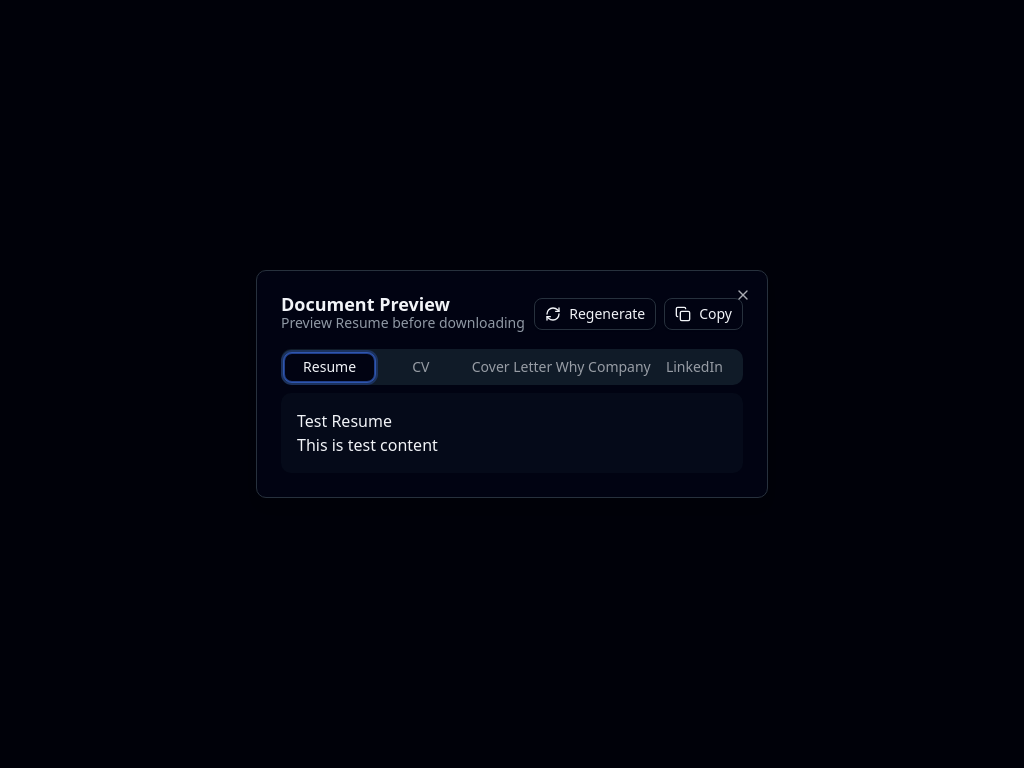
Test: DocumentPreview Component › switches to different tab on click
Expected: the text "This is test content" is shown, x1=297 y1=434 x2=438 y2=456
Click the tab "CV" at (421, 367), box x1=375 y1=352 x2=466 y2=382
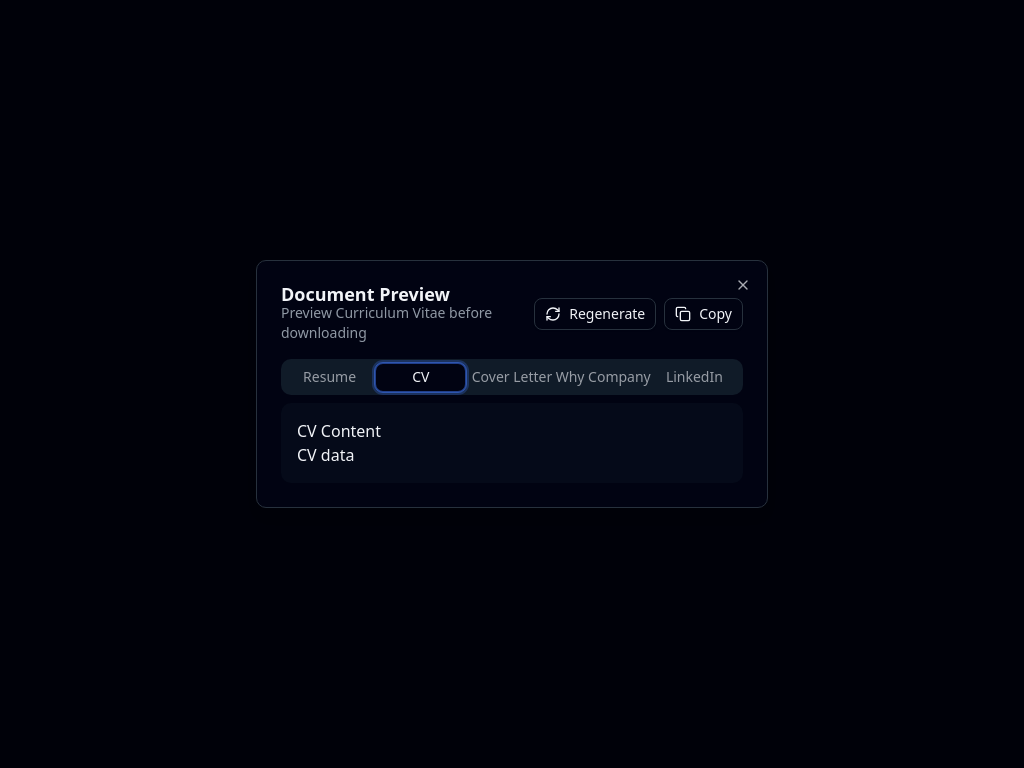
Expected: the text "CV data" is shown, x1=297 y1=444 x2=354 y2=466
